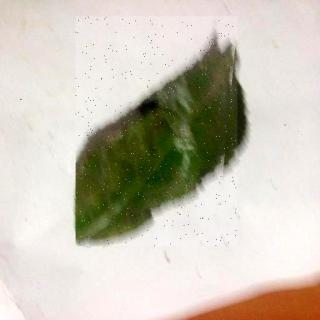Red Leaf Spot: (77, 17, 239, 247)
